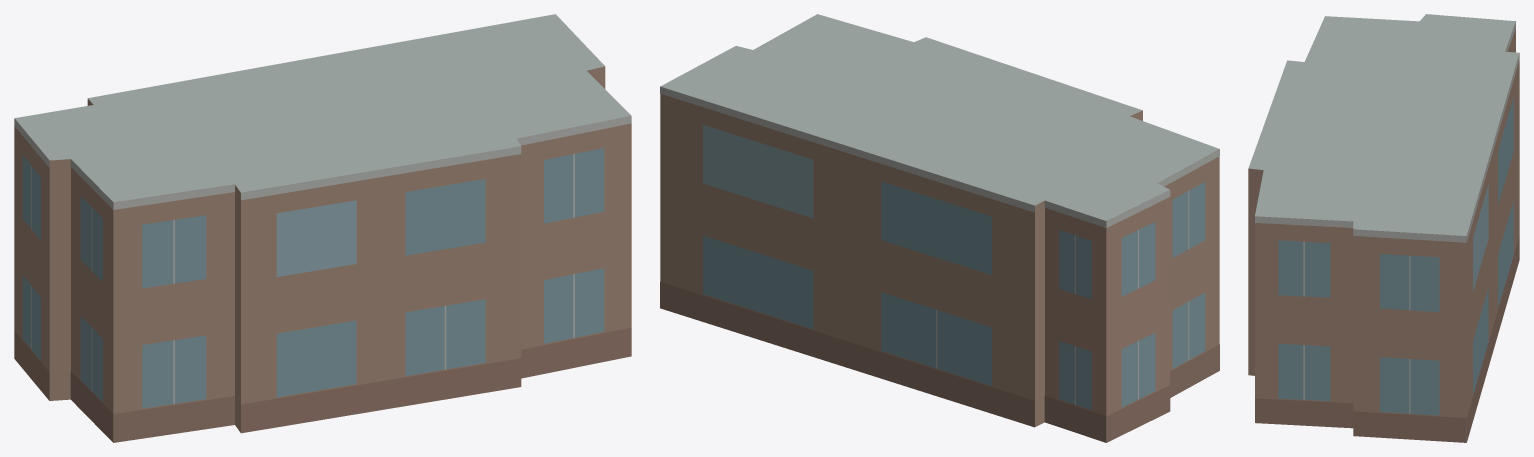
Rendered from survey-upis-32705392.glb.
3 views of the same model, side by side, from view 1: azimuth 30°, elevation 25°; view 2: azimuth 150°, elevation 25°; view 3: azimuth 270°, elevation 25° (orthographic). The views are drawn at different scales.
Visible parts, largest first — view 1: survey-upis-32705392.tmp; view 2: survey-upis-32705392.tmp; view 3: survey-upis-32705392.tmp.
Boxes of the visible parts, bbox=[...] form: survey-upis-32705392.tmp: bbox=[14, 14, 631, 442]; survey-upis-32705392.tmp: bbox=[660, 14, 1219, 442]; survey-upis-32705392.tmp: bbox=[1248, 14, 1519, 442].
Bounding box in the file's own units: 17.64 × 7.65 × 9.11.
